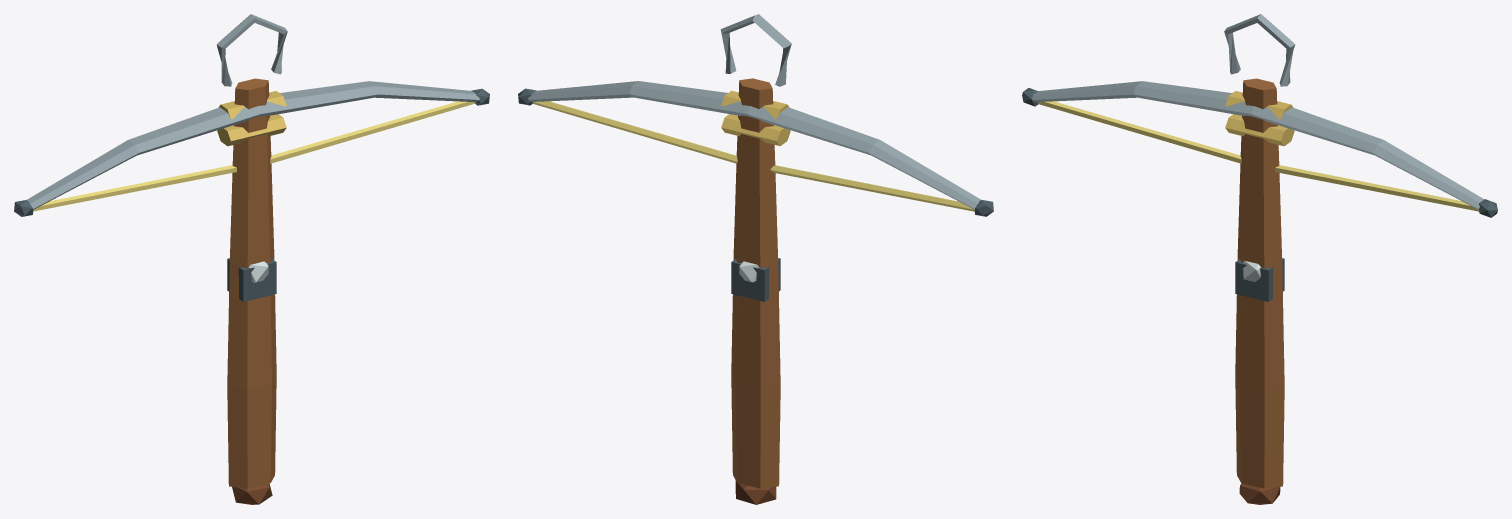
The model's file is crossbow_world.glb.
3 views of the same model, side by side, from view 1: azimuth 30°, elevation 25°; view 2: azimuth 150°, elevation 25°; view 3: azimuth 330°, elevation 25° (orthographic).
Visible parts, largest first — view 1: Crossbow_Tiller, Crossbow_Prod, Crossbow_String, Crossbow_Stirrup, Crossbow_Lock_Plate, Crossbow_Lash_1, Crossbow_Butt; view 2: Crossbow_Tiller, Crossbow_Prod, Crossbow_String, Crossbow_Stirrup, Crossbow_Lock_Plate, Crossbow_Lash_1, Crossbow_Butt; view 3: Crossbow_Tiller, Crossbow_Prod, Crossbow_String, Crossbow_Stirrup, Crossbow_Lock_Plate, Crossbow_Lash_1, Crossbow_Butt.
Boxes of the visible parts, x1=… form: Crossbow_Tiller: x1=227, y1=78, x2=276, y2=488; Crossbow_Prod: x1=27, y1=81, x2=479, y2=209; Crossbow_String: x1=33, y1=101, x2=475, y2=211; Crossbow_Stirrup: x1=216, y1=14, x2=287, y2=86; Crossbow_Lock_Plate: x1=227, y1=258, x2=276, y2=301; Crossbow_Lash_1: x1=217, y1=114, x2=286, y2=146; Crossbow_Butt: x1=232, y1=483, x2=272, y2=504; Crossbow_Tiller: x1=731, y1=78, x2=780, y2=488; Crossbow_Prod: x1=528, y1=81, x2=981, y2=209; Crossbow_String: x1=532, y1=101, x2=974, y2=211; Crossbow_Stirrup: x1=720, y1=14, x2=791, y2=86; Crossbow_Lock_Plate: x1=731, y1=258, x2=780, y2=301; Crossbow_Lash_1: x1=721, y1=114, x2=790, y2=146; Crossbow_Butt: x1=735, y1=480, x2=776, y2=504; Crossbow_Tiller: x1=1235, y1=78, x2=1284, y2=488; Crossbow_Prod: x1=1032, y1=81, x2=1484, y2=209; Crossbow_String: x1=1038, y1=101, x2=1478, y2=211; Crossbow_Stirrup: x1=1224, y1=14, x2=1295, y2=86; Crossbow_Lock_Plate: x1=1235, y1=258, x2=1284, y2=301; Crossbow_Lash_1: x1=1225, y1=114, x2=1294, y2=146; Crossbow_Butt: x1=1239, y1=483, x2=1280, y2=504.
Size of the model in its own units: 1.19 by 1.17 by 0.0885.
